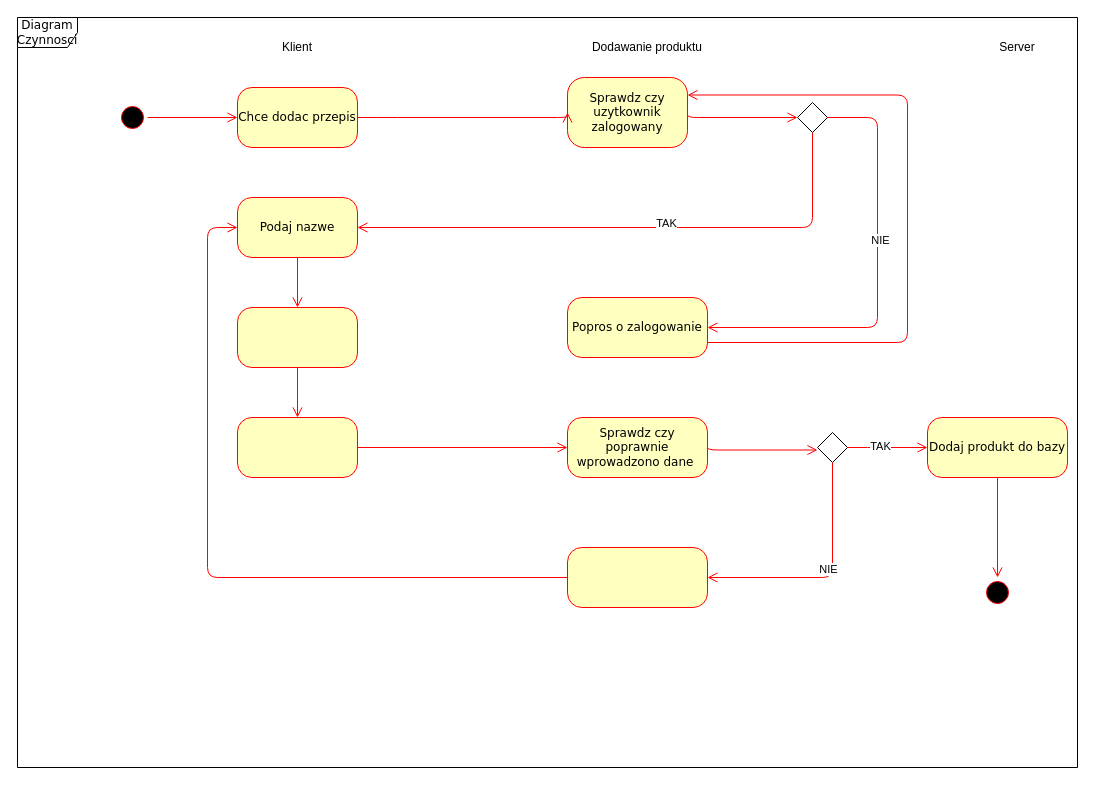
Image size: 1095x785. Some labels were removed from this diagram. The centre of each missing label's shape, as x and y in pixels:
Podaj glowny skladnik: (297,337)
Podaj kalorie w 100 gramch: (297,447)
Popros o poprawe danych: (637,577)
